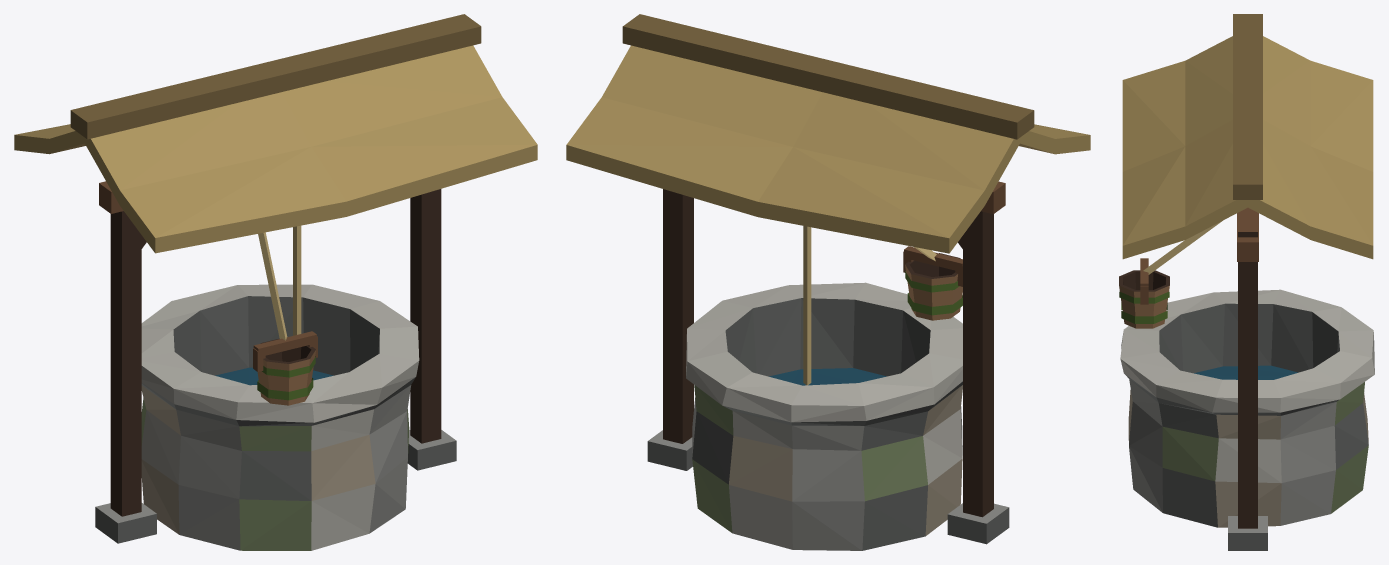
Rendered from well.fbx.
3 renders of one model, left to right at view 1: azimuth 30°, elevation 25°; view 2: azimuth 150°, elevation 25°; view 3: azimuth 270°, elevation 25°, orthographic. The views are drawn at different scales.
Parts seen in each view (by area): view 1: well; view 2: well; view 3: well.
Boxes of the visible parts, left/top/right/bottom form: well: left=14, top=14, right=537, bottom=550; well: left=566, top=14, right=1090, bottom=550; well: left=1119, top=14, right=1374, bottom=550.
Bounding box in the file's own units: 2.42 × 2.51 × 1.53.
